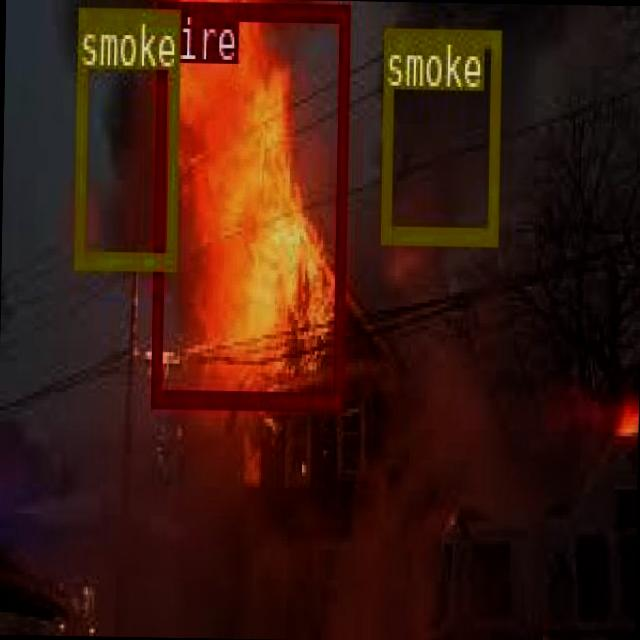fire: (149, 0, 347, 404)
smoke: (74, 6, 178, 266), (380, 24, 499, 243)
